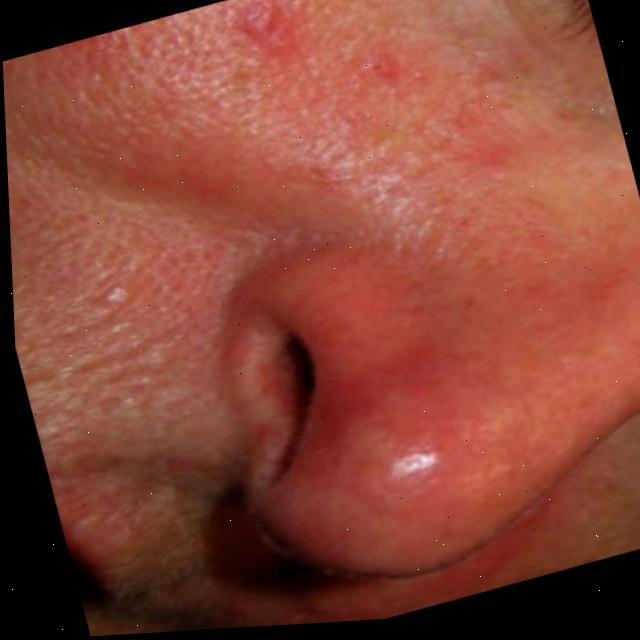Rosacea: (203, 156, 640, 610), (89, 0, 530, 260)
